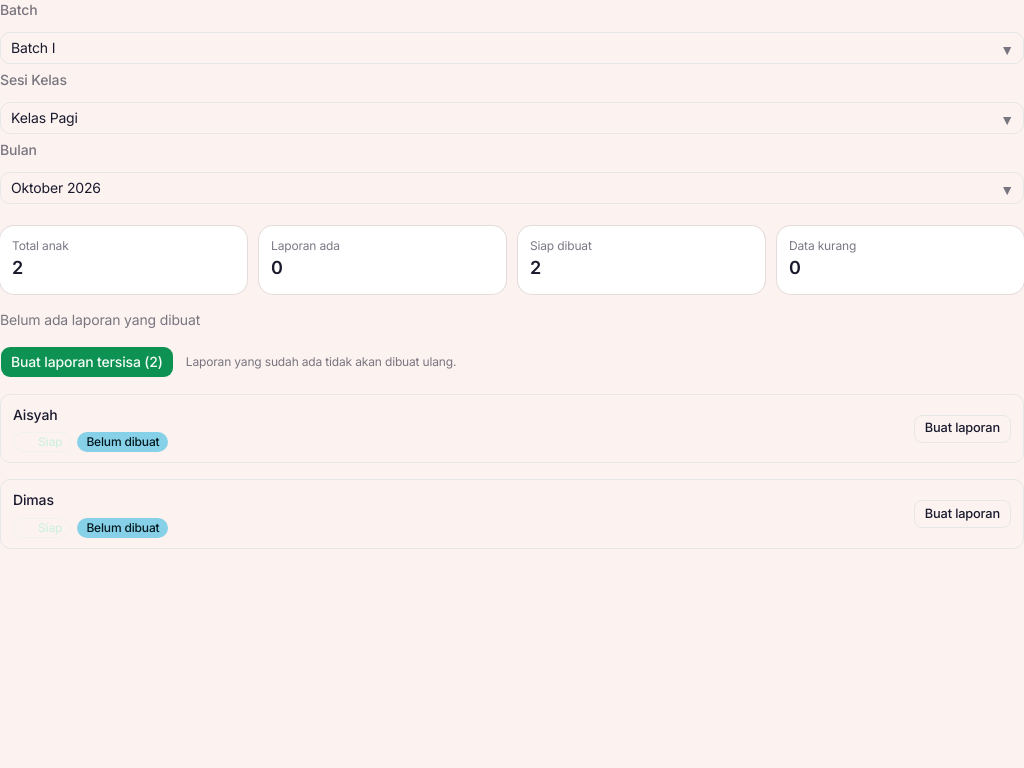
it: MonthlyReportClient batch generation › continues after a failure and reports it in the final summary
Click the button "Buat laporan tersisa (2)": (87, 362) top-left (0, 346), bottom-right (174, 378)
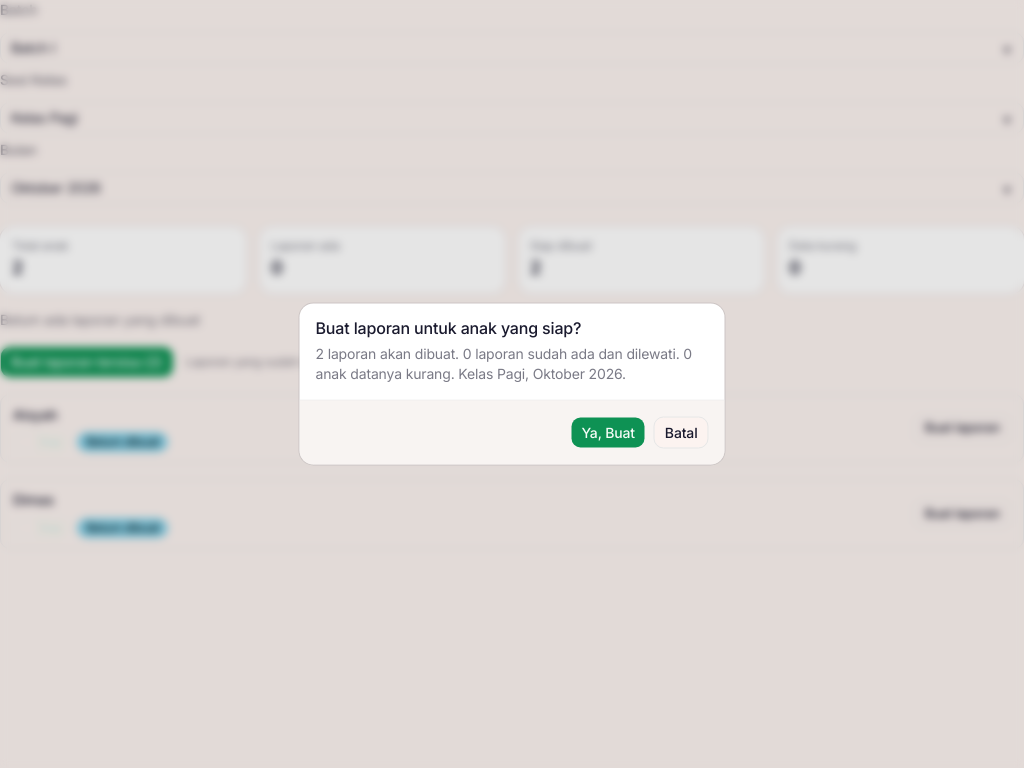
Click the button "Ya, Buat": (608, 432) top-left (570, 416), bottom-right (646, 448)
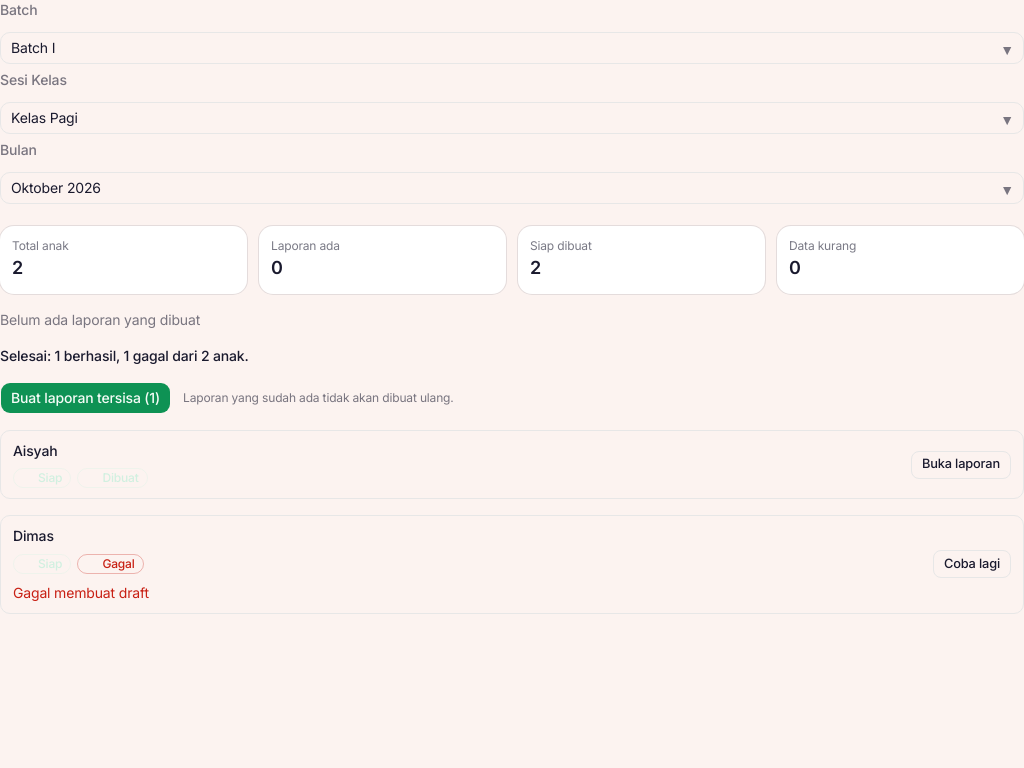
Check: the text "Dimas" is shown, box top-left (13, 526), bottom-right (54, 546)
Check: the text "Selesai: 1 berhasil, 1 gagal dari 2 anak." is shown, box top-left (0, 347), bottom-right (248, 364)
Check: the text "Gagal membuat draft" is shown, box top-left (13, 584), bottom-right (149, 600)
